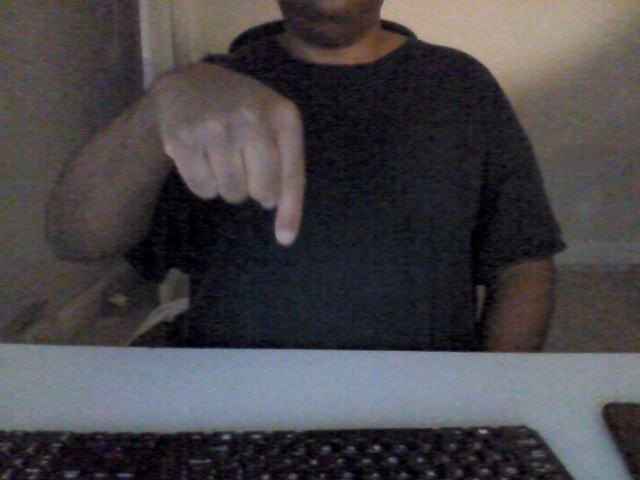down: (141, 58, 313, 260)
